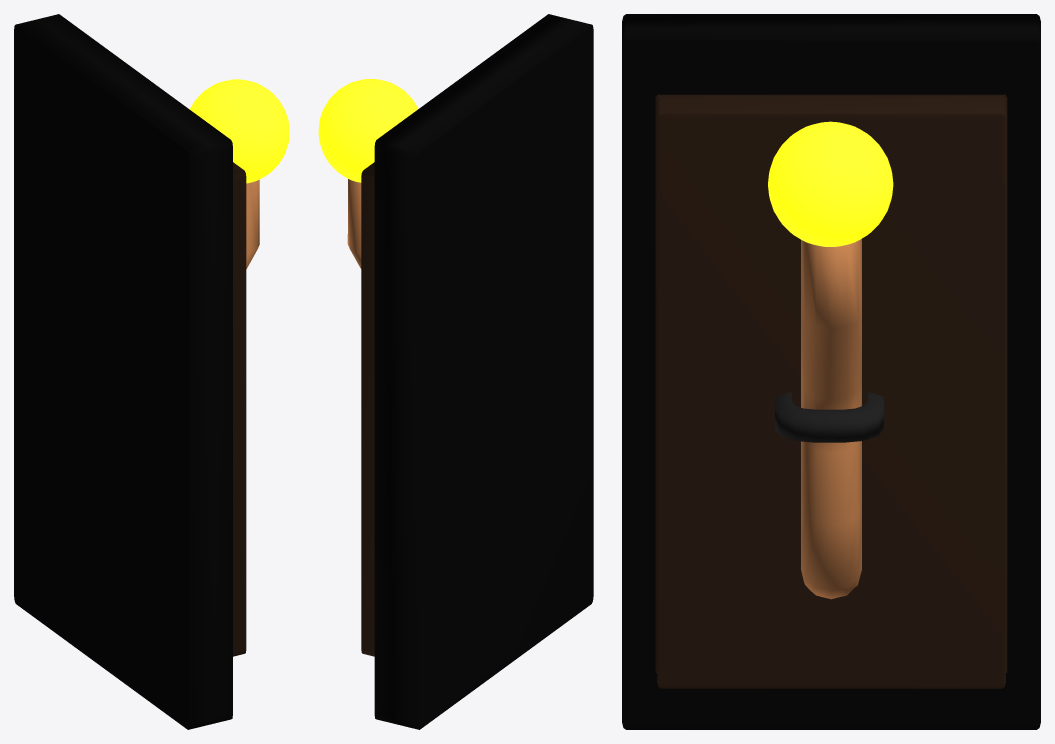
Rendered from torch.fbx.
The picture shows the model from 3 angles, left to right: view 1: azimuth 30°, elevation 25°; view 2: azimuth 150°, elevation 25°; view 3: azimuth 270°, elevation 25°; orthographic projection. The views are drawn at different scales.
Visible parts, largest first — view 1: Cube, Sphere, Cylinder; view 2: Cube, Sphere, Cylinder; view 3: Cube, Cylinder, Sphere, Cube.001.
Part boxes in pixels (bbox=[...]): Cube: bbox=[14, 14, 246, 729]; Sphere: bbox=[190, 79, 289, 183]; Cylinder: bbox=[246, 179, 259, 268]; Cube: bbox=[361, 14, 593, 729]; Sphere: bbox=[318, 79, 418, 182]; Cylinder: bbox=[347, 179, 361, 268]; Cube: bbox=[622, 14, 1040, 729]; Cylinder: bbox=[801, 239, 861, 599]; Sphere: bbox=[768, 121, 893, 246]; Cube.001: bbox=[775, 392, 883, 442].
Size of the model in its own units: 32.87 by 101 by 55.22.
